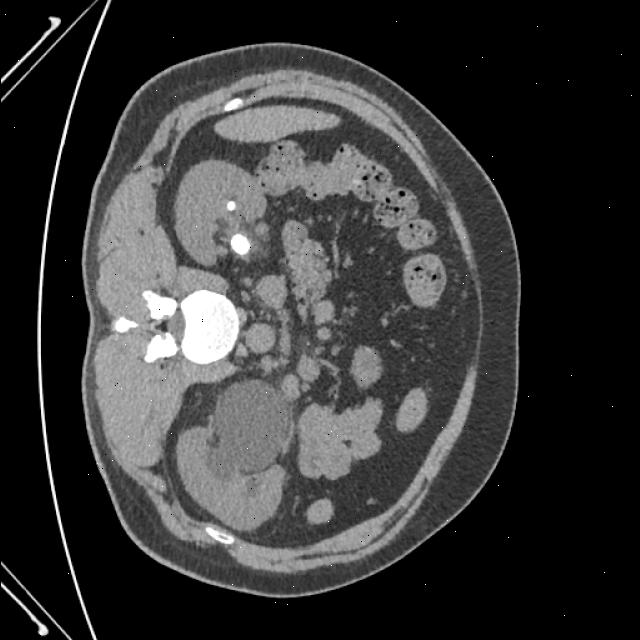kidneystone: (229, 234, 249, 255), (226, 201, 235, 210)
